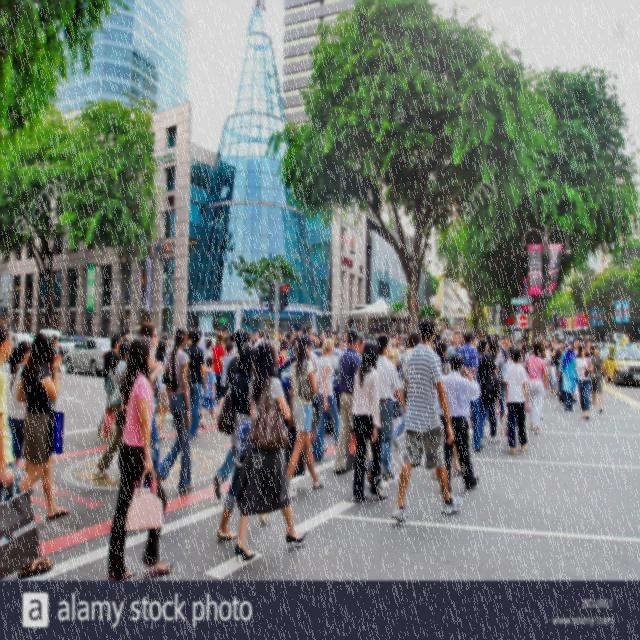pessoa: (233, 338, 309, 564), (105, 334, 173, 580), (390, 315, 464, 523), (216, 340, 271, 540), (248, 318, 560, 352), (16, 330, 70, 520), (278, 332, 326, 499), (15, 330, 56, 521), (150, 326, 194, 494), (348, 340, 389, 504), (436, 353, 482, 495), (92, 340, 132, 480), (375, 334, 407, 482), (431, 339, 463, 482), (332, 327, 362, 475), (313, 337, 347, 462), (391, 351, 425, 468), (454, 328, 484, 454), (139, 322, 164, 470), (301, 324, 327, 456), (6, 340, 32, 470), (501, 344, 531, 456), (476, 336, 504, 444), (183, 328, 209, 440), (522, 338, 551, 436), (98, 333, 121, 441), (486, 336, 504, 436), (225, 328, 253, 391), (152, 340, 168, 440), (182, 326, 214, 374), (557, 340, 578, 413), (575, 342, 594, 420), (198, 356, 218, 428), (588, 344, 608, 416), (216, 342, 234, 414), (212, 331, 227, 406), (554, 338, 566, 407), (64, 324, 118, 338), (584, 338, 595, 406), (49, 334, 65, 374), (502, 343, 518, 383), (119, 323, 141, 351), (548, 340, 558, 397), (388, 336, 402, 374), (276, 336, 290, 369), (540, 352, 550, 389), (202, 338, 214, 368), (310, 334, 324, 357), (451, 332, 464, 354), (224, 332, 237, 354), (183, 328, 194, 350), (620, 348, 638, 360), (572, 337, 580, 357), (198, 329, 206, 349), (160, 331, 170, 342)
